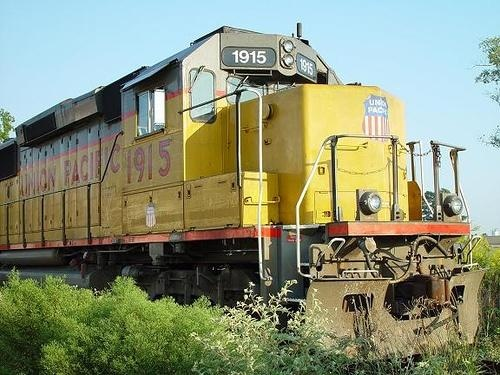train: (1, 24, 482, 358)
